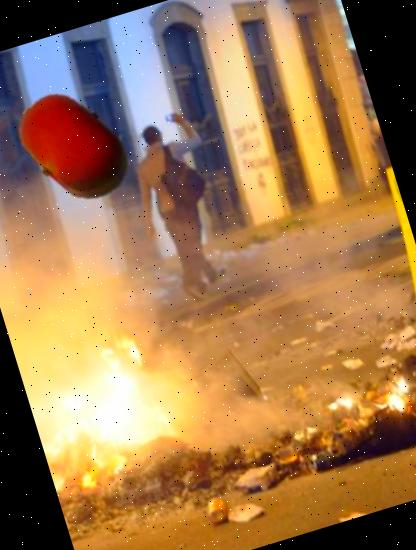Nectarine: (0, 70, 149, 222)
